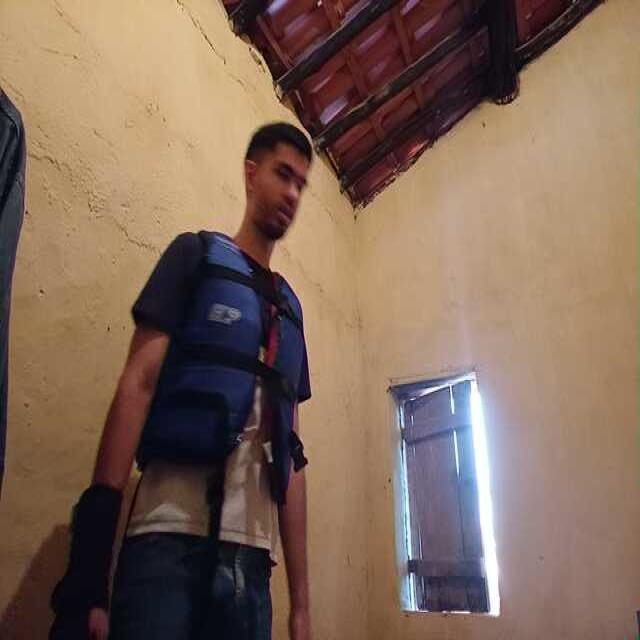colete: (138, 236, 308, 503)
pessoa: (91, 126, 322, 640)
